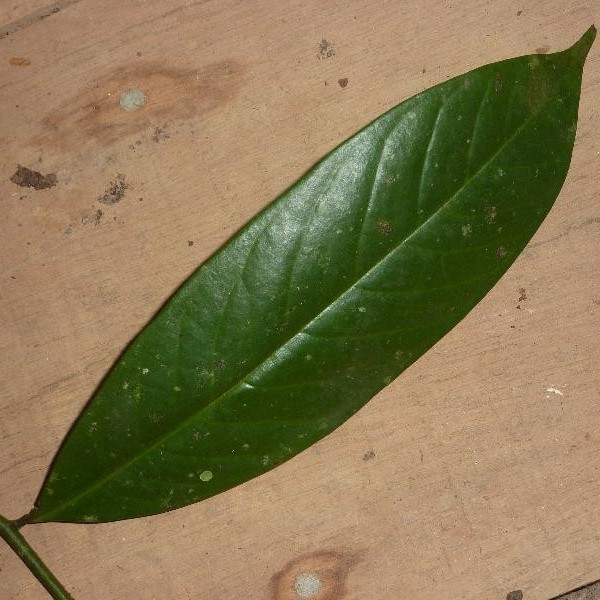obstacle: (30, 49, 587, 558)
